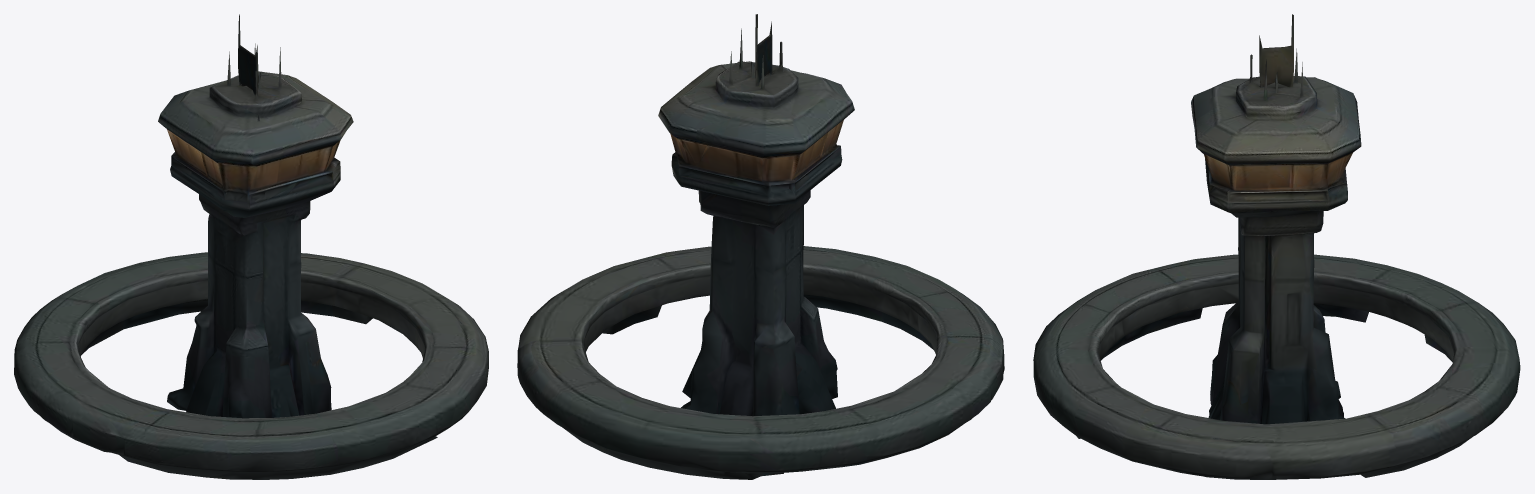
File: 3d-wieza-portu.glb
3 renders of one model, left to right at view 1: azimuth 30°, elevation 25°; view 2: azimuth 150°, elevation 25°; view 3: azimuth 270°, elevation 25°, orthographic. The views are drawn at different scales.
Visible parts, largest first — view 1: tripo_node_1a52249d-4e59-470d-acd6-c567d1331462; view 2: tripo_node_1a52249d-4e59-470d-acd6-c567d1331462; view 3: tripo_node_1a52249d-4e59-470d-acd6-c567d1331462.
Part boxes in pixels (bbox=[...]): tripo_node_1a52249d-4e59-470d-acd6-c567d1331462: bbox=[14, 14, 488, 479]; tripo_node_1a52249d-4e59-470d-acd6-c567d1331462: bbox=[517, 14, 1004, 479]; tripo_node_1a52249d-4e59-470d-acd6-c567d1331462: bbox=[1033, 14, 1520, 479].
Size of the model in its own units: 0.9997 by 0.9008 by 1.
1 material, 1 textured.
